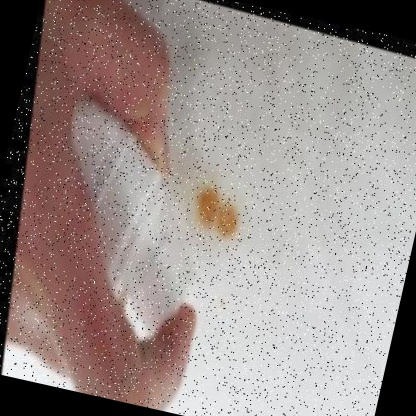kimchi: (194, 182, 245, 237)
